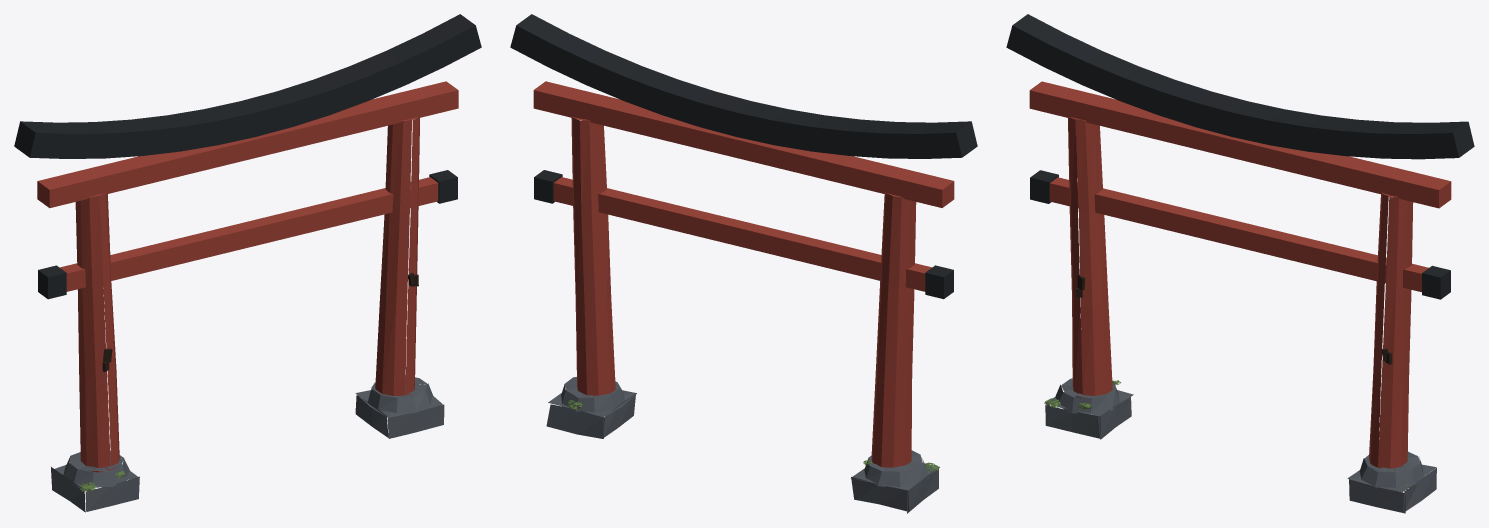
Rendered from 2-05_torii_small.glb.
The picture shows the model from 3 angles, left to right: view 1: azimuth 30°, elevation 25°; view 2: azimuth 150°, elevation 25°; view 3: azimuth 330°, elevation 25°; orthographic projection.
Parts seen in each view (by area): view 1: 鳥居（小）; view 2: 鳥居（小）; view 3: 鳥居（小）.
Boxes of the visible parts, x1=… form: 鳥居（小）: x1=14, y1=14, x2=481, y2=512; 鳥居（小）: x1=510, y1=14, x2=977, y2=513; 鳥居（小）: x1=1006, y1=14, x2=1474, y2=513.
Bounding box in the file's own units: 4.64 × 3.79 × 0.6534.
